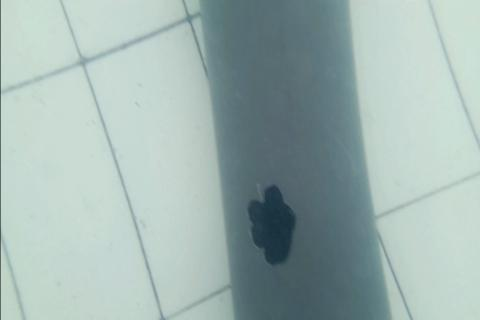kebocoran: (245, 181, 298, 269)
